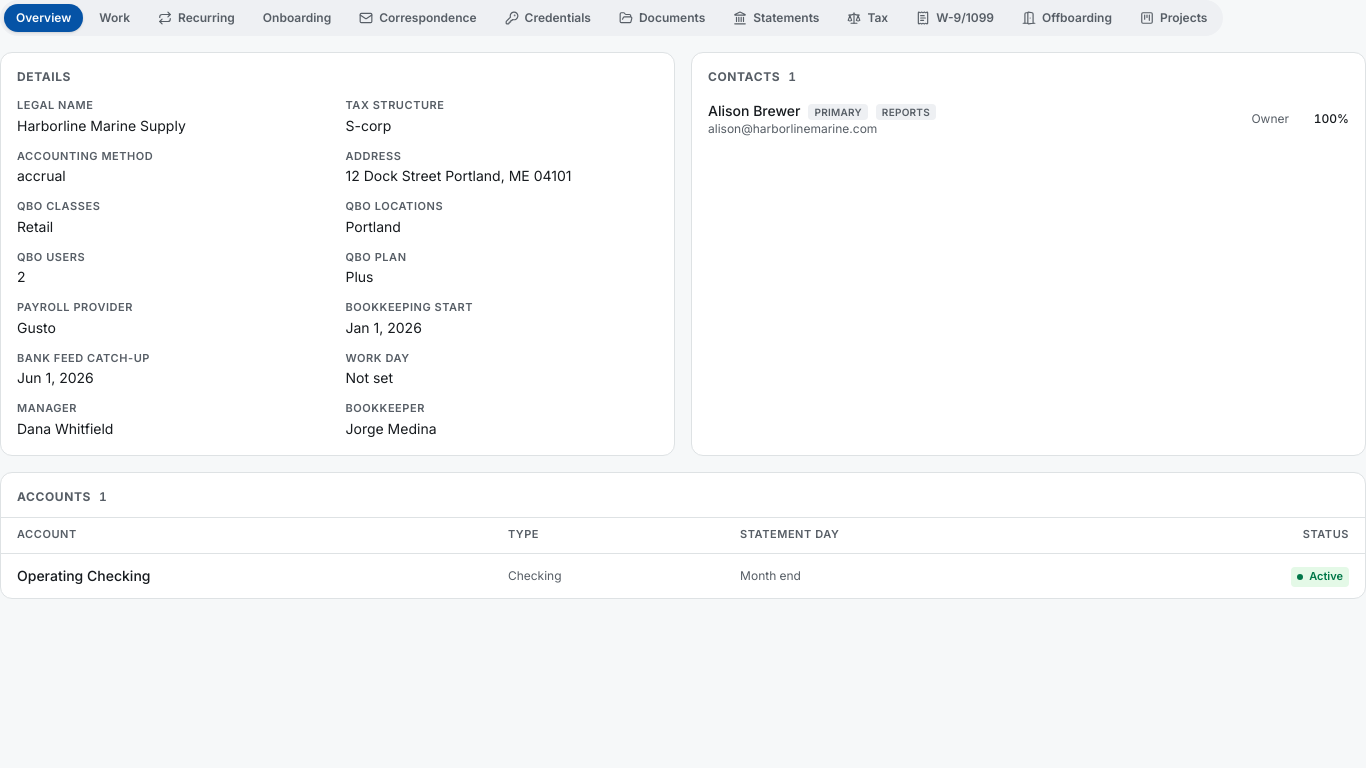
it: ClientDetailTabs visibility rules › paused clients get the frozen-work explanation
The image size is (1366, 768).
Click the tab "Work" at (115, 18), box [87, 4, 142, 32]
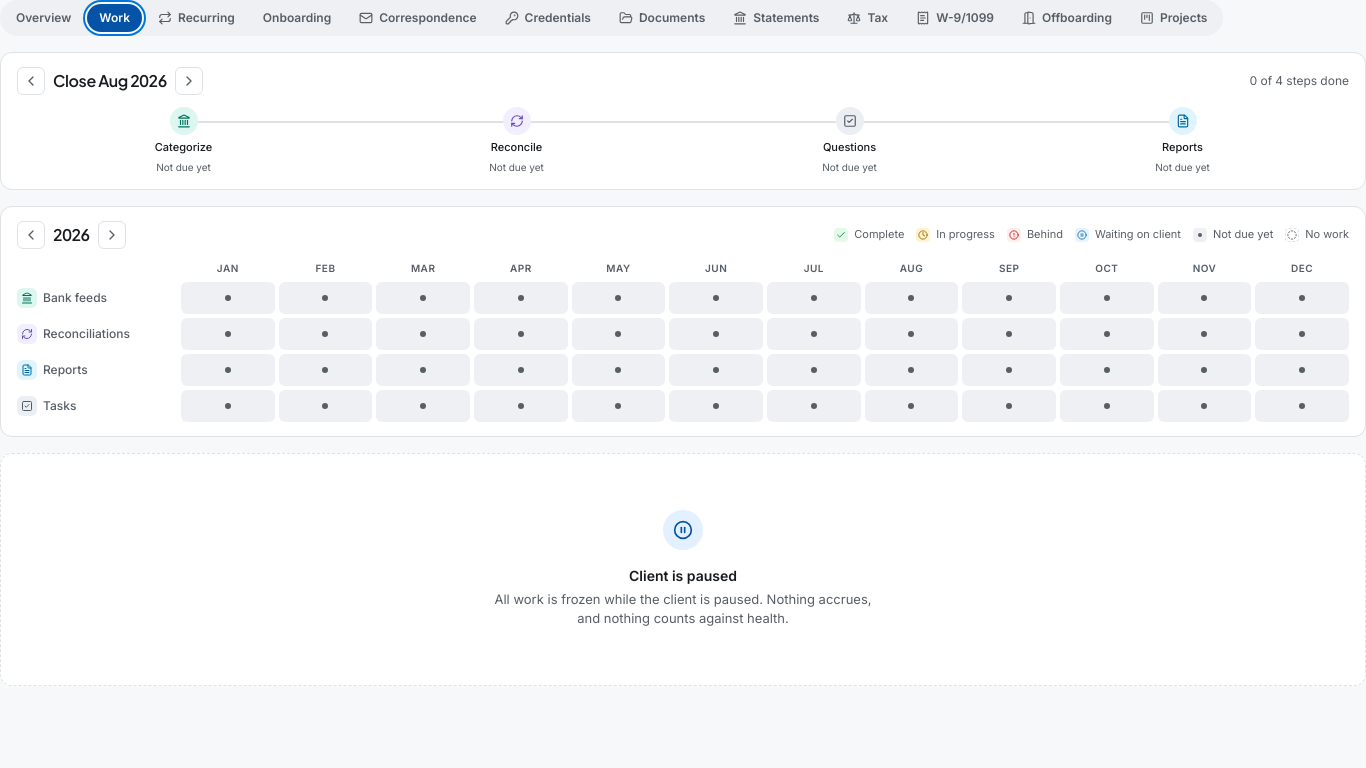
Result: the heading "Client is paused" is shown at [629, 566, 737, 586]
